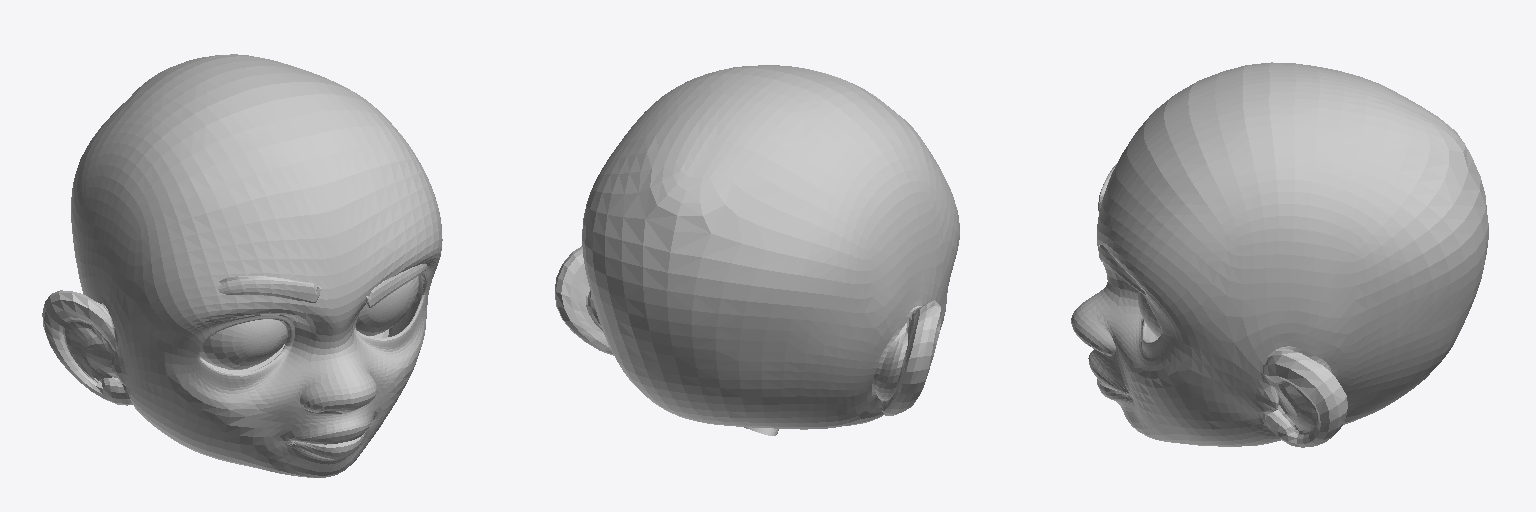
Rendered from warrior_chibi_head2.OBJ.
3 renders of one model, left to right at view 1: azimuth 30°, elevation 25°; view 2: azimuth 150°, elevation 25°; view 3: azimuth 270°, elevation 25°, orthographic.
Parts seen in each view (by area): view 1: warrior_chibi_head_rain_head_rain_head_Mesh3; view 2: warrior_chibi_head_rain_head_rain_head_Mesh3; view 3: warrior_chibi_head_rain_head_rain_head_Mesh3.
Boxes of the visible parts, box(x1,y1,x2,y2) form: warrior_chibi_head_rain_head_rain_head_Mesh3: box(42, 54, 442, 477); warrior_chibi_head_rain_head_rain_head_Mesh3: box(555, 65, 959, 435); warrior_chibi_head_rain_head_rain_head_Mesh3: box(1071, 62, 1488, 447).
Size of the model in its own units: 7.67 by 6.77 by 7.38.